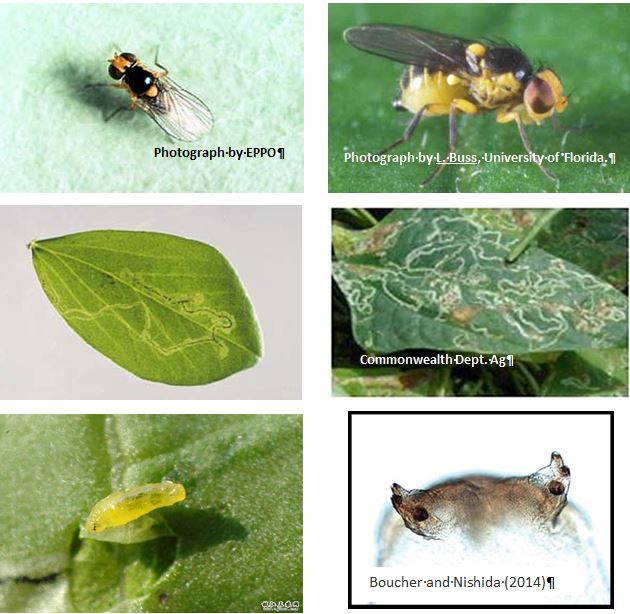Trifoli: (342, 14, 559, 135), (86, 37, 219, 148)
